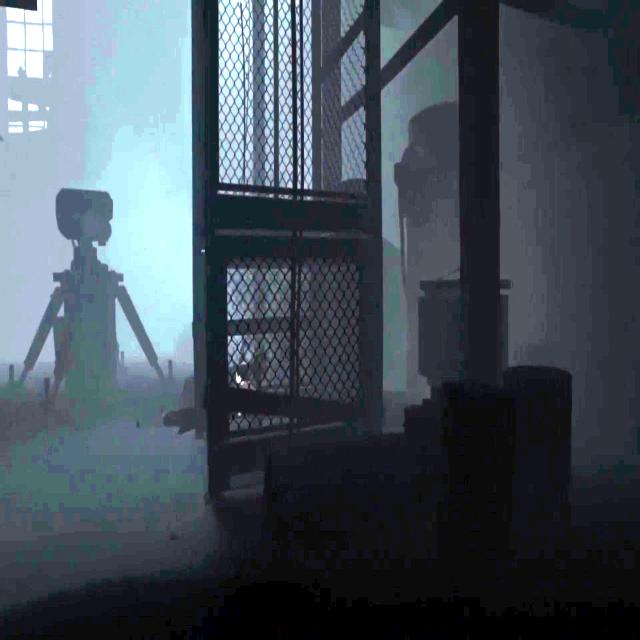boy: (235, 362, 257, 392)
